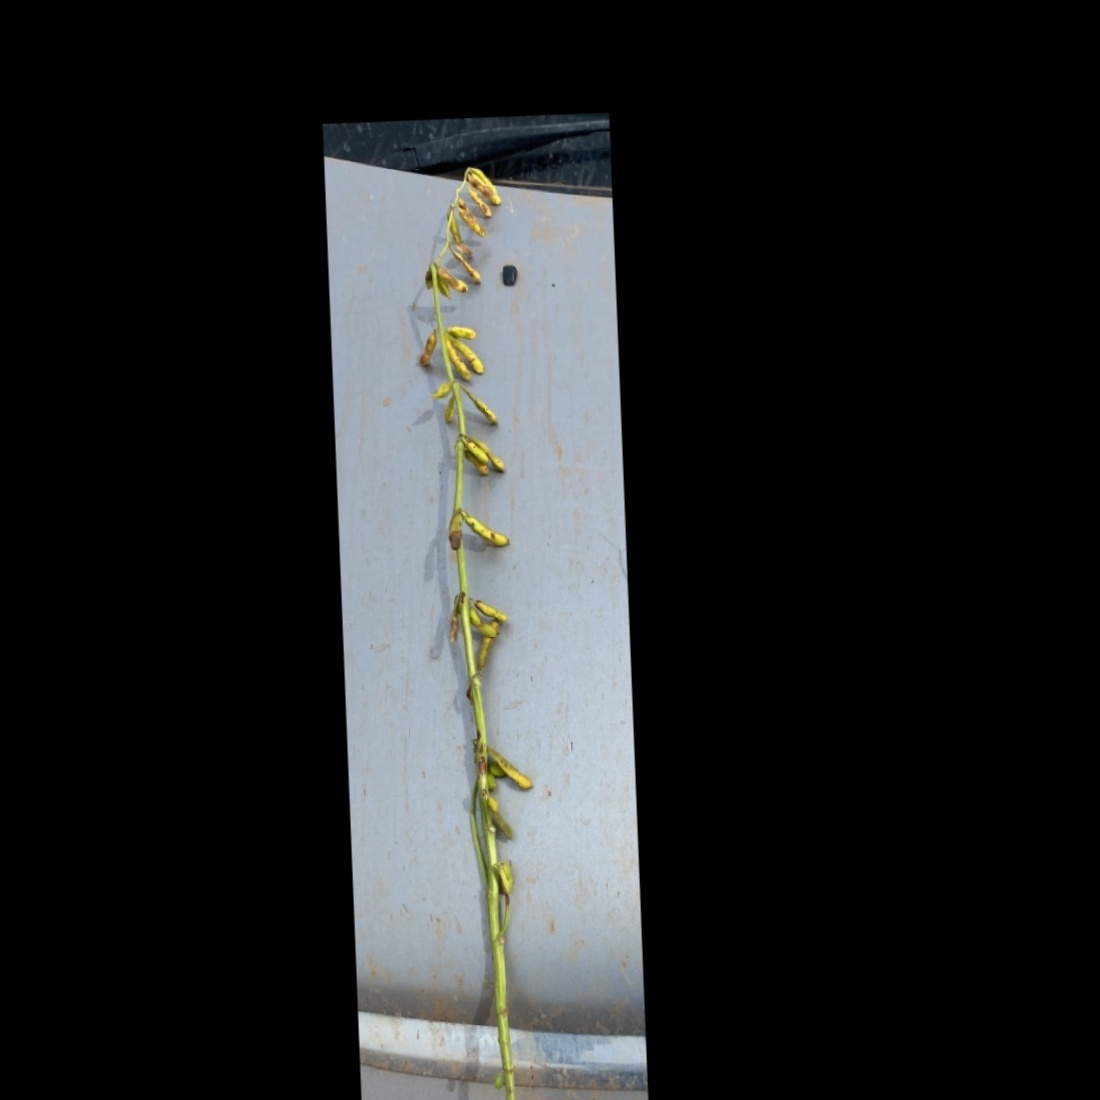pod: (459, 507, 514, 553), (459, 435, 512, 479), (460, 385, 506, 428), (440, 336, 475, 388), (451, 330, 486, 378), (447, 247, 483, 288), (432, 262, 469, 295), (465, 185, 496, 223), (414, 326, 440, 369), (459, 437, 493, 467), (447, 209, 466, 253), (445, 322, 483, 338), (439, 395, 458, 426)
soy: (390, 148, 569, 1100)
